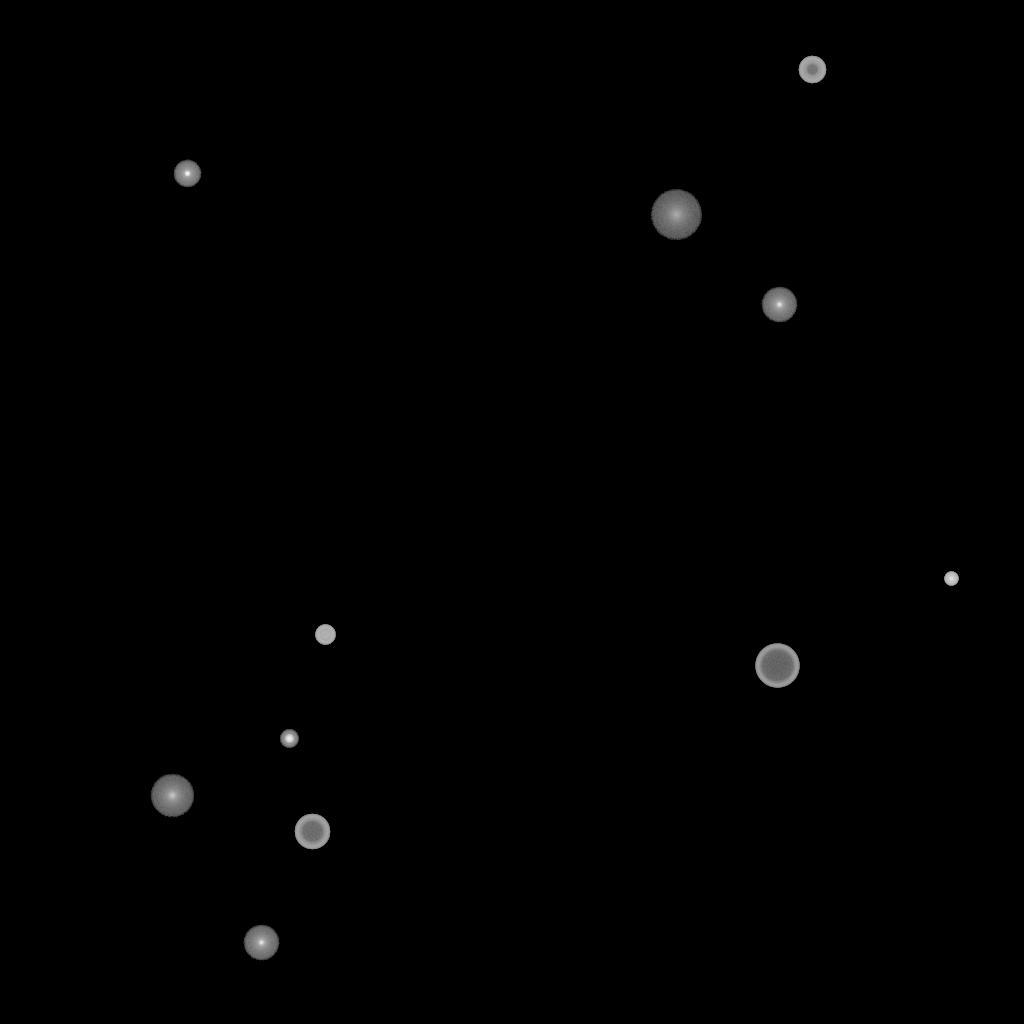depth:-10: (173, 160, 201, 188)
depth:-20: (280, 730, 298, 748)
depth:-30: (944, 572, 958, 586)
depth:-40: (315, 625, 335, 645)
depth:-50: (798, 56, 826, 84)
depth:-60: (294, 814, 330, 850)
depth:-70: (755, 644, 799, 688)
depth:0: (243, 925, 279, 961), (761, 287, 797, 323)
depth:10: (150, 774, 194, 818)
depth:20: (650, 190, 702, 240)
